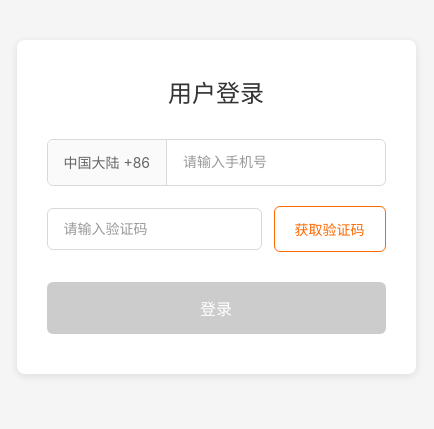
LoginForm Component › 手机号格式错误应该显示验证错误
The width and height of the screenshot is (434, 429).
Type "123456" into the field with test id "phone-input" at [274, 162], box [167, 142, 380, 182]
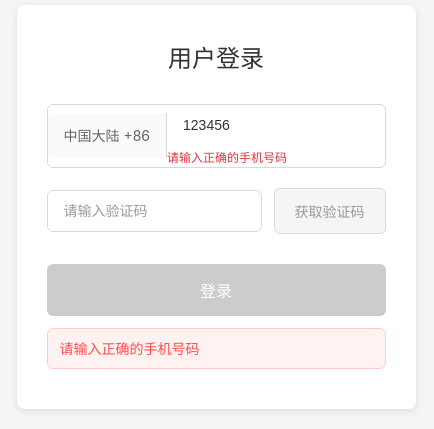
Expected: the text with test id "login-error" reads "请输入正确的手机号码", [60, 340, 200, 357]
